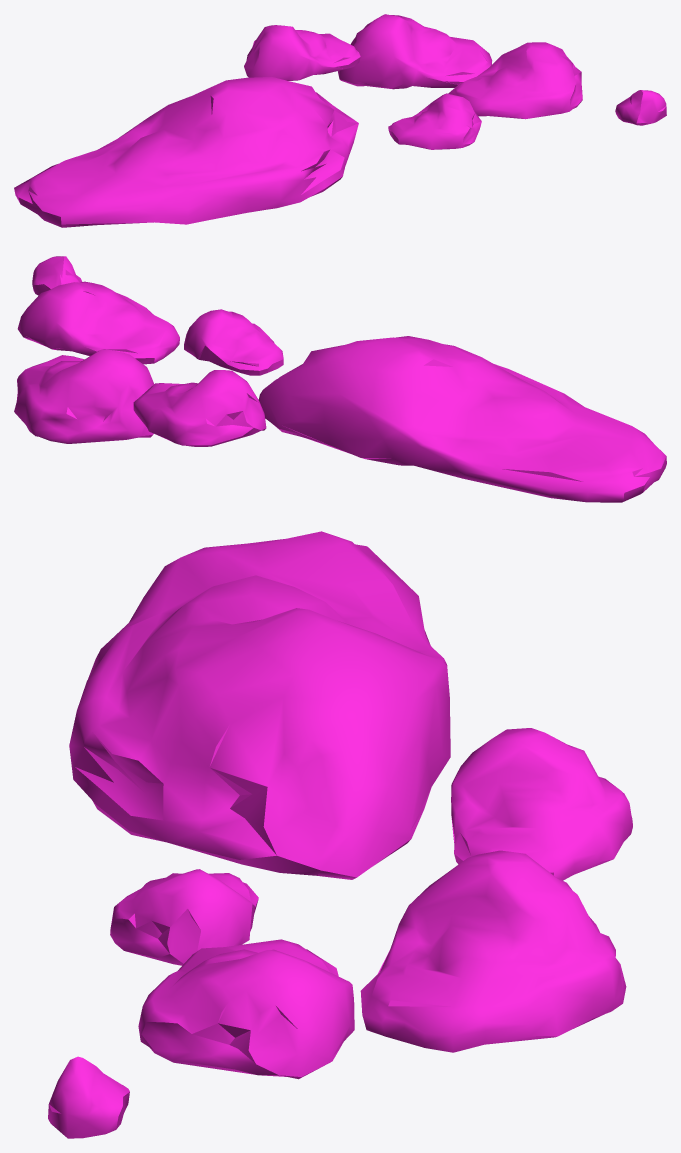
The model's file is sm_rock_01.gltf.
3 renders of one model, top to bottom at view 1: azimuth 30°, elevation 25°; view 2: azimuth 150°, elevation 25°; view 3: azimuth 270°, elevation 25°, orthographic. The views are drawn at different scales.
Visible parts, largest first — view 1: sm_rock_01; view 2: sm_rock_01; view 3: sm_rock_01.
Part boxes in pixels (left/top/right/bottom): sm_rock_01: left=14, top=14, right=666, bottom=227; sm_rock_01: left=14, top=256, right=666, bottom=502; sm_rock_01: left=48, top=531, right=632, bottom=1138.
Size of the model in its own units: 3.13 by 0.3933 by 1.36.
